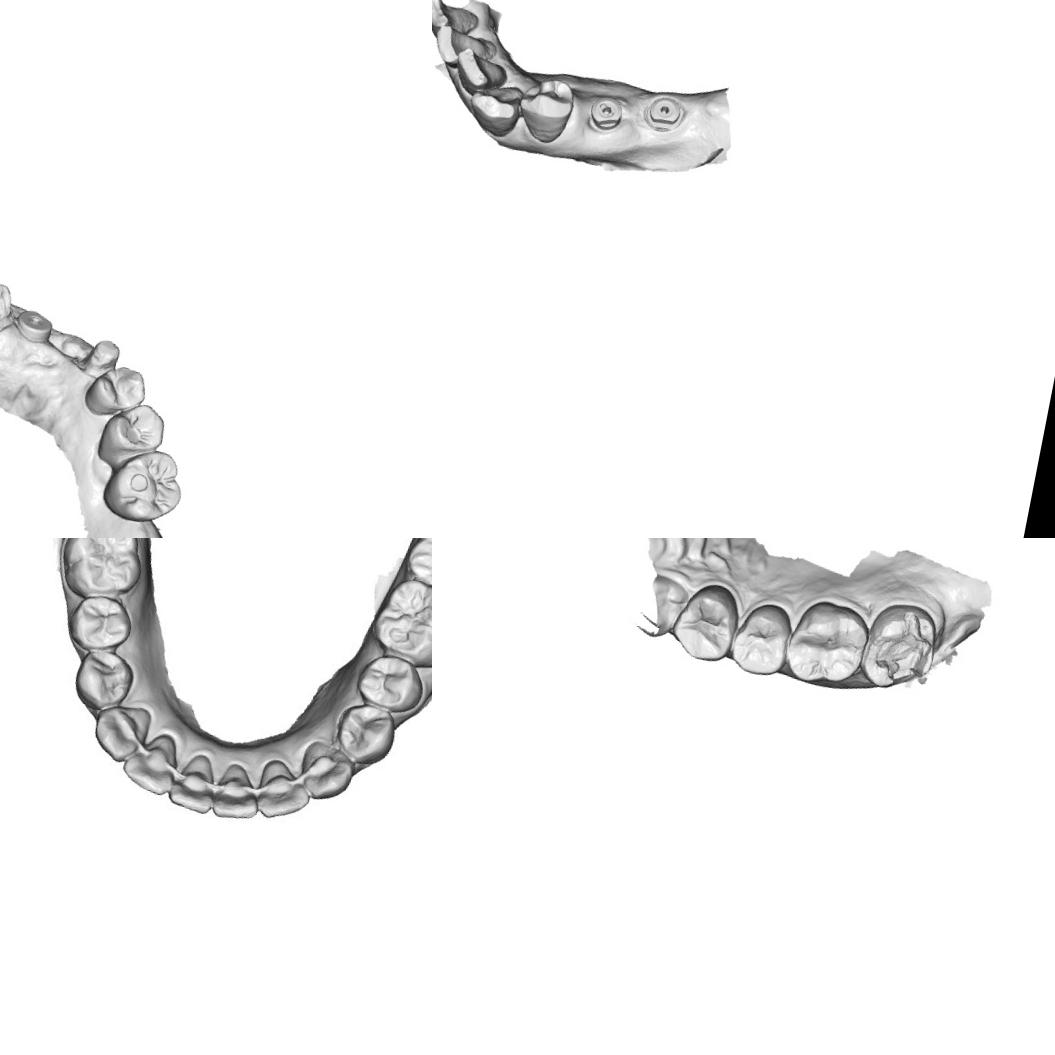canine: (463, 77, 526, 140), (299, 740, 357, 799), (92, 696, 144, 760)
crown: (79, 326, 128, 378), (0, 276, 22, 336)
implant: (9, 302, 60, 348), (640, 90, 686, 135)
implant_minus: (584, 91, 627, 135)
incisor: (167, 742, 225, 813), (251, 754, 310, 822), (432, 21, 501, 75), (122, 728, 181, 791), (449, 44, 512, 101), (214, 760, 260, 821), (432, 0, 484, 42)
inlay: (864, 604, 938, 690)
molar: (778, 591, 877, 693), (96, 439, 190, 530), (56, 538, 146, 598), (374, 579, 432, 663)
premolar: (662, 574, 746, 667), (726, 594, 797, 683), (92, 395, 170, 470), (511, 71, 579, 148), (334, 704, 404, 770), (80, 358, 151, 421), (356, 652, 424, 716), (73, 644, 135, 710), (68, 592, 130, 653)
